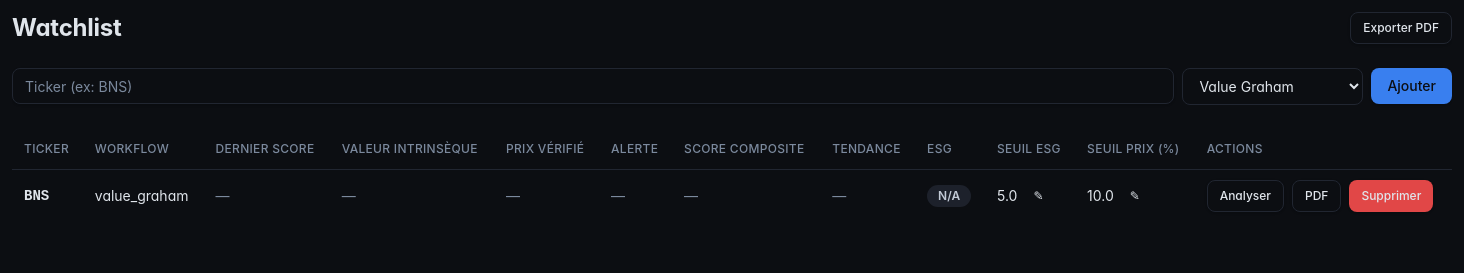
Test case: WatchlistPdfExport — bouton Exporter PDF global › affiche message "Watchlist vide" sur erreur 404
This screenshot has width=1464, height=273.
Click the button with test id "export-pdf-watchlist" at x=1401, y=28, box [1350,12,1452,44]
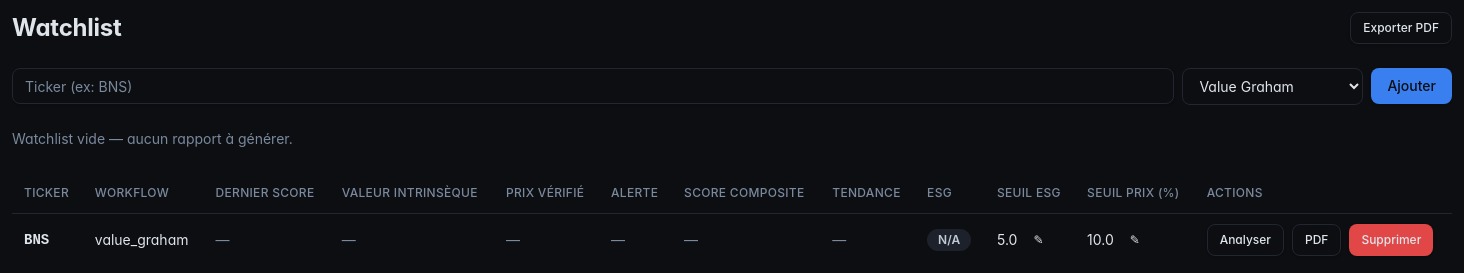
Expected: the text "Watchlist vide — aucun rapport à générer." is shown, [12,130,293,147]
